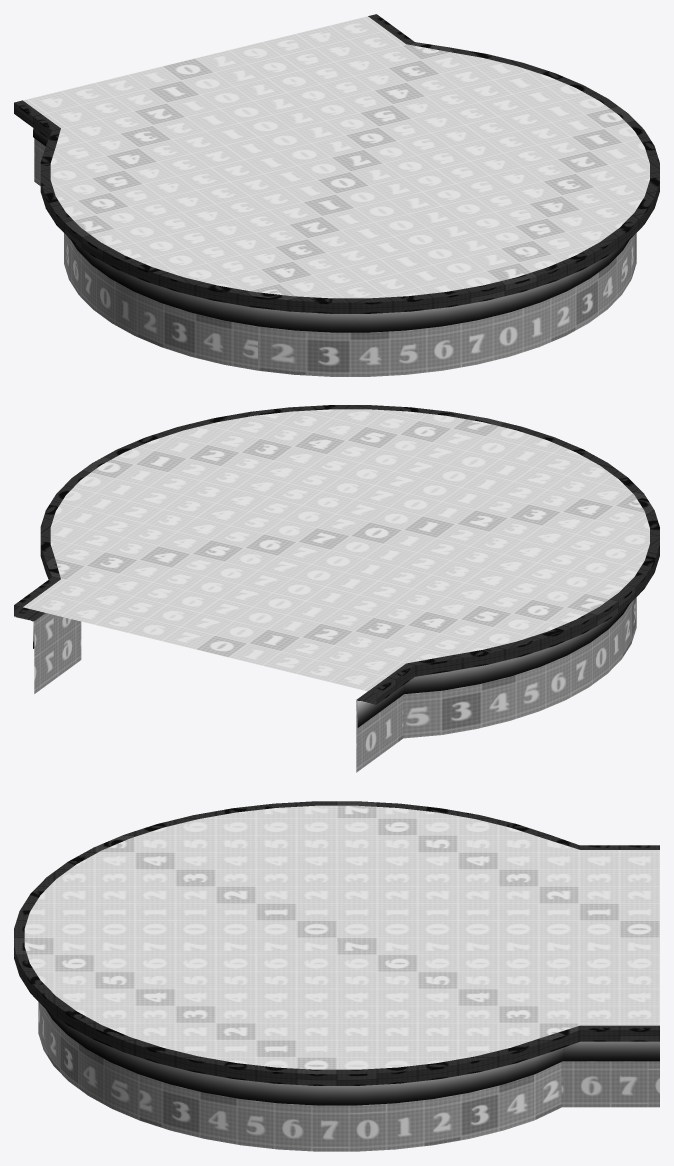
The model's file is Podium02_5.FBX.
The picture shows the model from 3 angles, top to bottom: view 1: azimuth 30°, elevation 25°; view 2: azimuth 150°, elevation 25°; view 3: azimuth 270°, elevation 25°; orthographic projection. The views are drawn at different scales.
Parts seen in each view (by area): view 1: Podium, Backlight; view 2: Podium, Backlight; view 3: Podium, Backlight.
Part boxes in pixels (x1=…): Podium: x1=14, y1=14, x2=659, y2=376; Backlight: x1=33, y1=128, x2=629, y2=332; Podium: x1=14, y1=405, x2=659, y2=772; Backlight: x1=16, y1=604, x2=629, y2=727; Podium: x1=14, y1=801, x2=659, y2=1151; Backlight: x1=46, y1=1009, x2=659, y2=1105.
Bounding box in the file's own units: 4999 × 750 × 5000.
